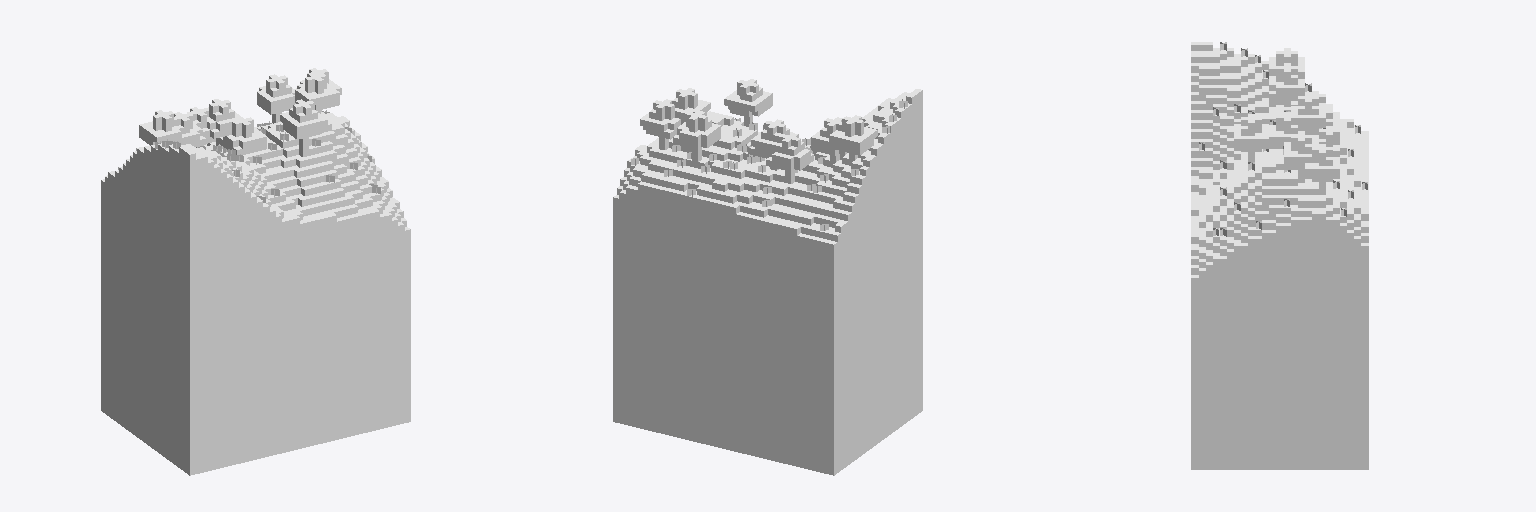
The picture shows the model from 3 angles: view 1: azimuth 30°, elevation 25°; view 2: azimuth 150°, elevation 25°; view 3: azimuth 270°, elevation 25°; orthographic projection.
Visible parts, largest first — view 1: test__57_62_-114_to_92_319_-90; view 2: test__57_62_-114_to_92_319_-90; view 3: test__57_62_-114_to_92_319_-90.
Boxes of the visible parts, x1=… form: test__57_62_-114_to_92_319_-90: x1=101, y1=68, x2=410, y2=475; test__57_62_-114_to_92_319_-90: x1=613, y1=79, x2=922, y2=475; test__57_62_-114_to_92_319_-90: x1=1191, y1=42, x2=1368, y2=469.
Bounding box in the file's own units: 36 × 50 × 25.